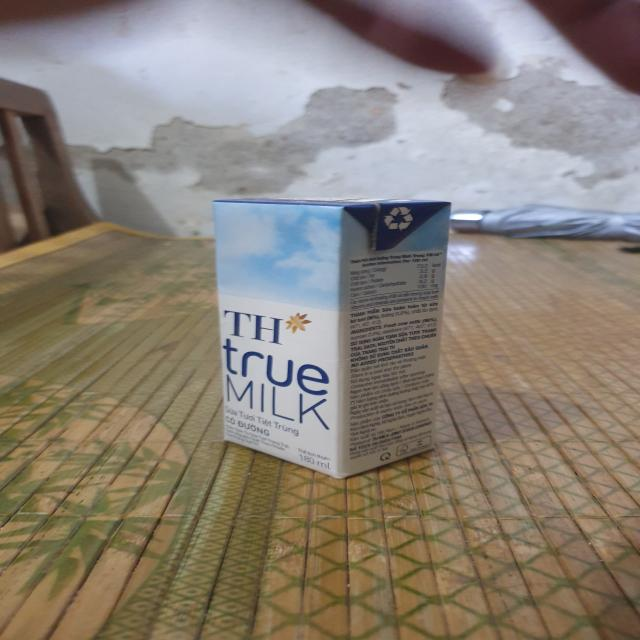TH: (206, 196, 458, 484)
